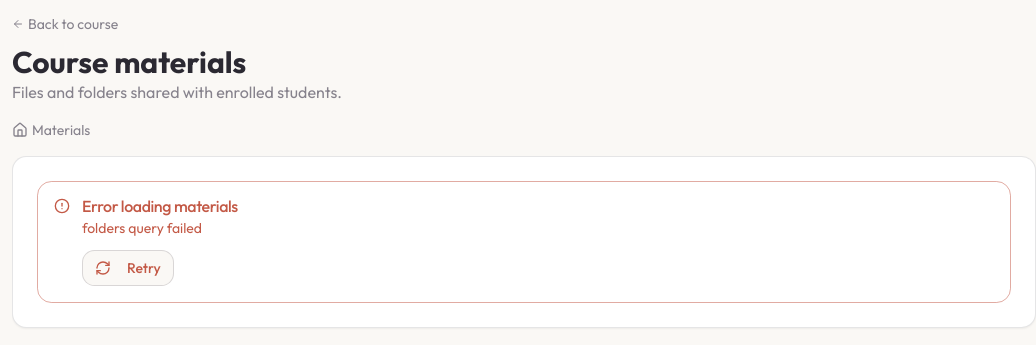
Scenario: CourseMaterials › renders an error state — NOT the empty folder — when loading fails, and retries
This screenshot has width=1036, height=345.
Expected: the message "Error loading materials folders query failed Retry" is shown, [37,181,1011,303]
Expected: the heading "Error loading materials" is shown, [82,196,238,216]
Click the button "Retry". click: click(128, 268)
box: [82,250,174,286]
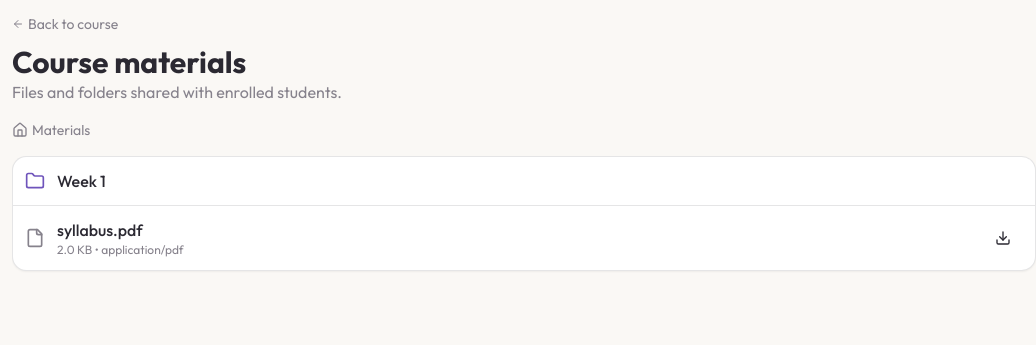
Expected: the text "Week 1" is shown, [57,169,106,193]
Expected: the message "Error loading materials folders query failed Retry" is gone
